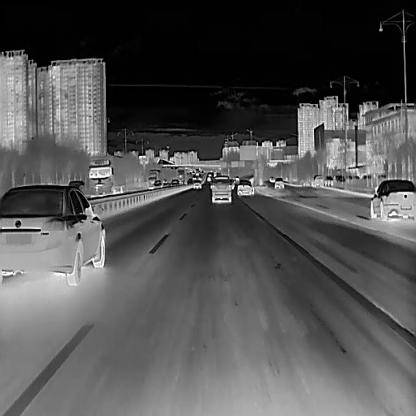car: (0, 184, 105, 285), (370, 178, 416, 218), (209, 175, 230, 203), (236, 177, 252, 195), (274, 176, 282, 188), (151, 178, 160, 188), (170, 178, 178, 188), (192, 180, 201, 188)
truck: (88, 156, 144, 195), (146, 167, 162, 188)
